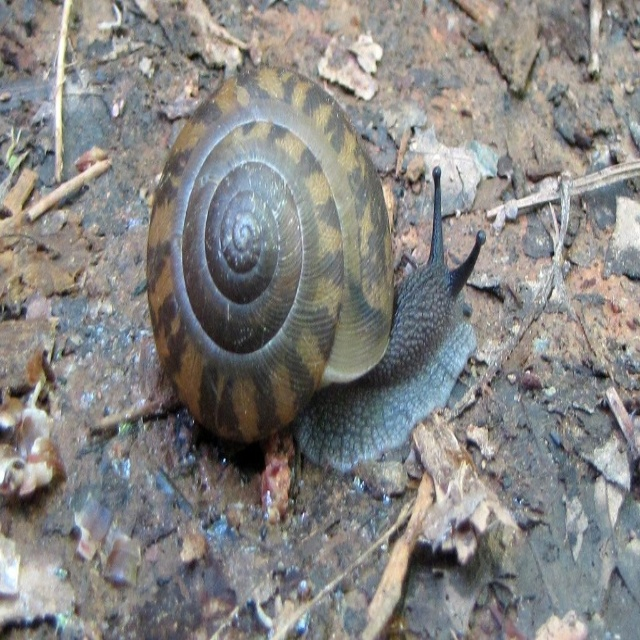Snail: (124, 58, 488, 480)
